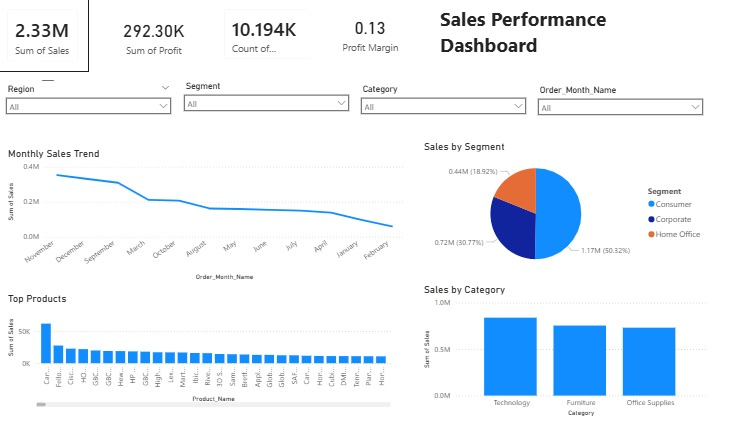

Layout of this report page (visuals, bound fields, positions):
{"tool":"powerbi","page":{"name":"Page 1","canvas":[1280,720],"ordinal":0},"visuals":[{"type":"lineChart","title":"Monthly Sales Trend","fields":{"Category":["Superstore_Final.Order_Month_Name"],"Y":["Sum(Superstore_Final.Sales)"]},"box":[13.3,246.7,670,226.7],"z":0},{"type":"cardVisual","fields":{"Data":["Sum(Superstore_Final.Sales)"]},"box":[0,0,152.5,121.2],"z":1000},{"type":"card","fields":{"Values":["Sum(Superstore_Final.Profit)"]},"box":[185,5,152.5,112.5],"z":2000},{"type":"cardVisual","fields":{"Data":["CountNonNull(Superstore_Final.Order_ID)"]},"box":[361.2,0,176.2,117.5],"z":3000},{"type":"columnChart","title":"Sales by Category","fields":{"Category":["Superstore_Final.Category"],"Y":["Sum(Superstore_Final.Sales)"]},"box":[706.7,473.3,480,226.7],"z":4000},{"type":"pieChart","title":"Sales by Segment","fields":{"Category":["Superstore_Final.Segment"],"Y":["Sum(Superstore_Final.Sales)"]},"box":[706.7,235,480,226.7],"z":5000},{"type":"card","fields":{"Values":["Superstore_Final.Profit Margin"]},"box":[537.5,5,167.5,102.5],"z":6000},{"type":"slicer","fields":{"Values":["Superstore_Final.Region"]},"box":[5,136.7,295,98.3],"z":7000},{"type":"columnChart","title":"Top Products","fields":{"Category":["Superstore_Final.Product_Name"],"Y":["Sum(Superstore_Final.Sales)"]},"box":[13.3,488.3,648.3,196.7],"z":7001},{"type":"slicer","fields":{"Values":["Superstore_Final.Category"]},"box":[596.7,136.7,295,98.3],"z":7002},{"type":"slicer","fields":{"Values":["Superstore_Final.Segment"]},"box":[301.7,131.7,295,103.3],"z":7003},{"type":"slicer","fields":{"Values":["Superstore_Final.Order_Month_Name"]},"box":[891.7,138.3,295,96.7],"z":7004},{"type":"textbox","box":[733.3,5,415,113.3],"z":7005}]}

Visuals, with their boxes in screenshot pixels (x1, y1, x2, y2), scaled from the page's 1280x720 canvas onto the 743x430 screenshot:
"Monthly Sales Trend" lineChart: 8,147,397,283
cardVisual - Sum(Superstore_Final.Sales): 0,0,89,72
card - Sum(Superstore_Final.Profit): 107,3,196,70
cardVisual - CountNonNull(Superstore_Final.Order_ID): 210,0,312,70
"Sales by Category" columnChart: 410,283,689,418
"Sales by Segment" pieChart: 410,140,689,276
card - Superstore_Final.Profit Margin: 312,3,409,64
slicer - Superstore_Final.Region: 3,82,174,140
"Top Products" columnChart: 8,292,384,409
slicer - Superstore_Final.Category: 346,82,518,140
slicer - Superstore_Final.Segment: 175,79,346,140
slicer - Superstore_Final.Order_Month_Name: 518,83,689,140
textbox: 426,3,667,71
